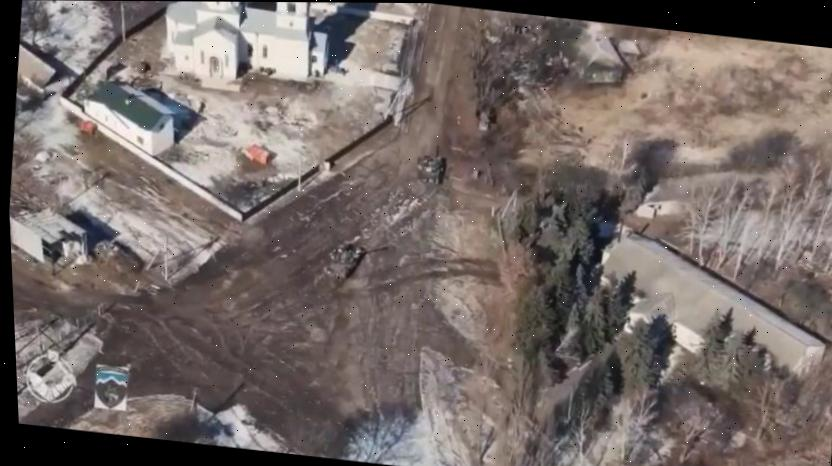tank: (320, 238, 390, 285), (413, 137, 449, 186)
